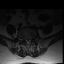CCS_normal: (27, 37, 29, 45)
LFS_severe_stenosis: (31, 37, 32, 42)
LLS_normal: (29, 38, 31, 43)
RFS_severe_stenosis: (23, 37, 25, 42)
RLS_stenosis: (25, 38, 27, 44)
